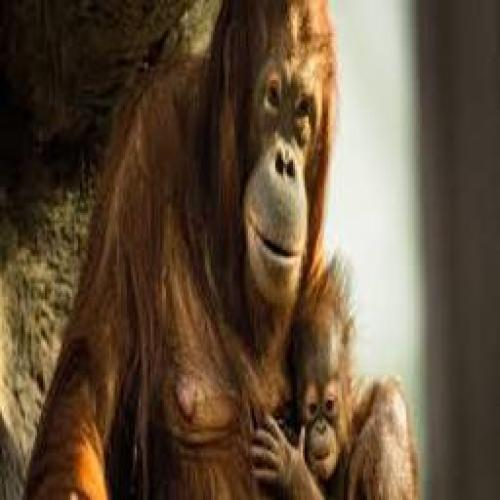orangutan-endangered: (31, 0, 333, 500), (248, 258, 426, 500)
